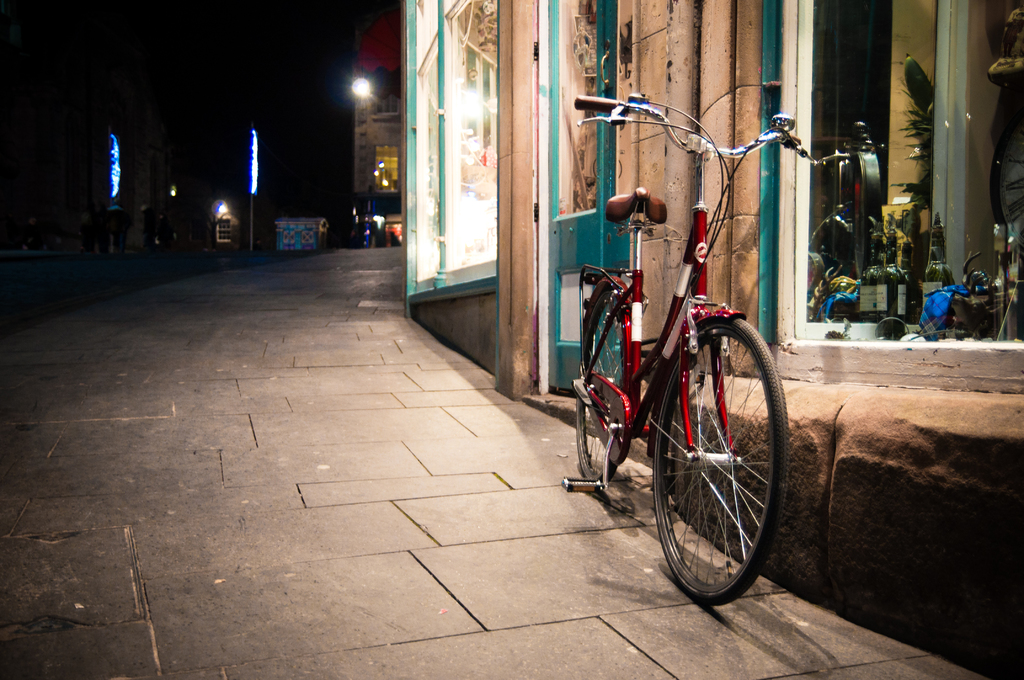Bike_toward: (543, 75, 838, 564)
